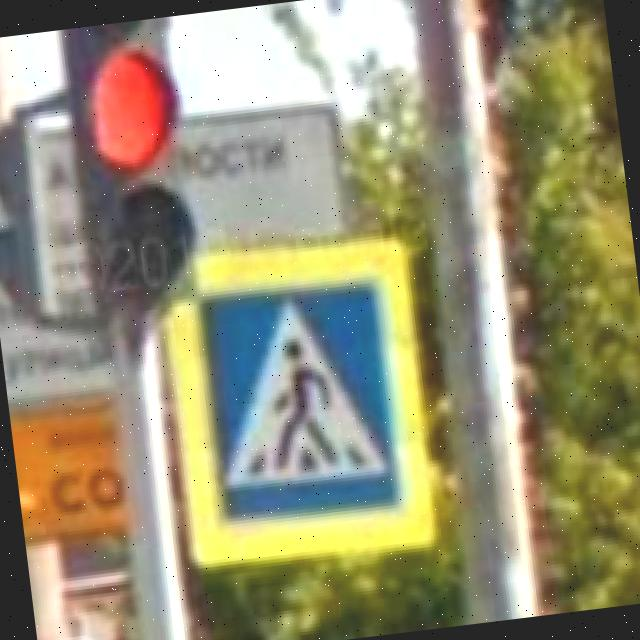Przejscie dla pieszych: (152, 226, 443, 579)
